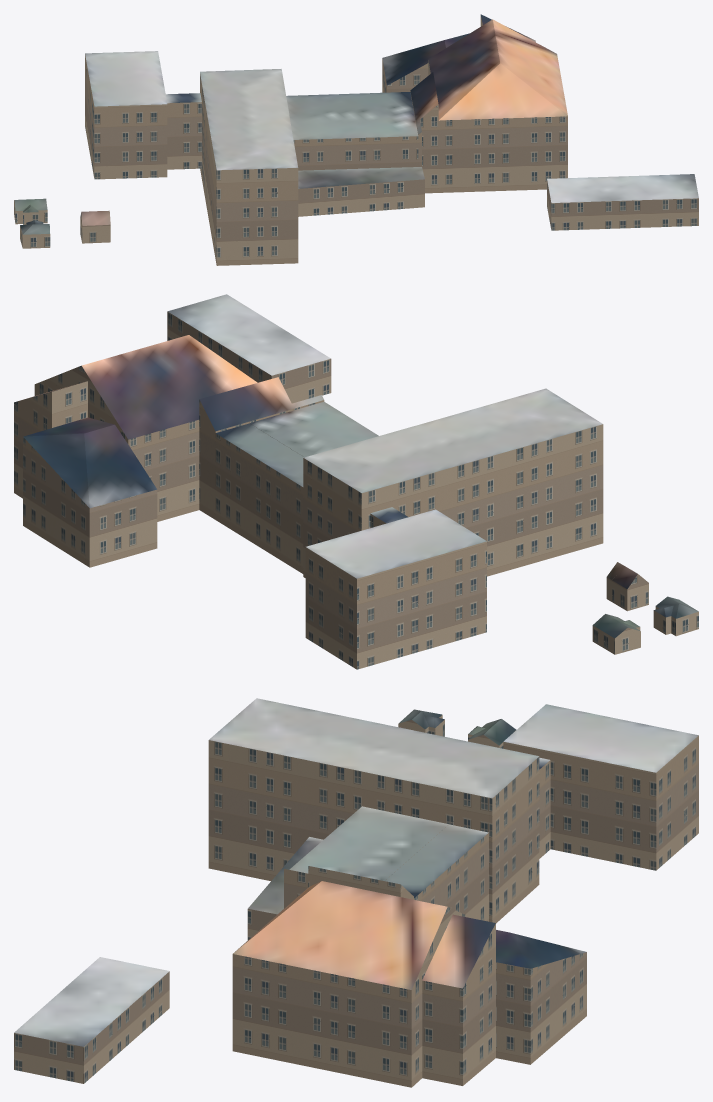
The model's file is GHS_Dohr_Haupthaus.glb.
3 views of the same model, one above another, from view 1: azimuth 30°, elevation 25°; view 2: azimuth 150°, elevation 25°; view 3: azimuth 270°, elevation 25° (orthographic). The views are drawn at different scales.
Visible parts, largest first — view 1: GHS_Dohr_Haupthaus; view 2: GHS_Dohr_Haupthaus; view 3: GHS_Dohr_Haupthaus.
Part boxes in pixels (x1,y1,x2,y2): GHS_Dohr_Haupthaus: (14, 14, 698, 265); GHS_Dohr_Haupthaus: (14, 294, 698, 669); GHS_Dohr_Haupthaus: (14, 698, 698, 1087).
Bounding box in the file's own units: 88.98 × 17.01 × 71.54.
3 materials, 2 textured.
